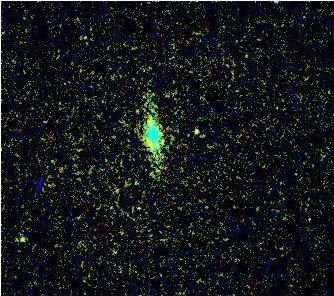star: (180, 115, 210, 145)
